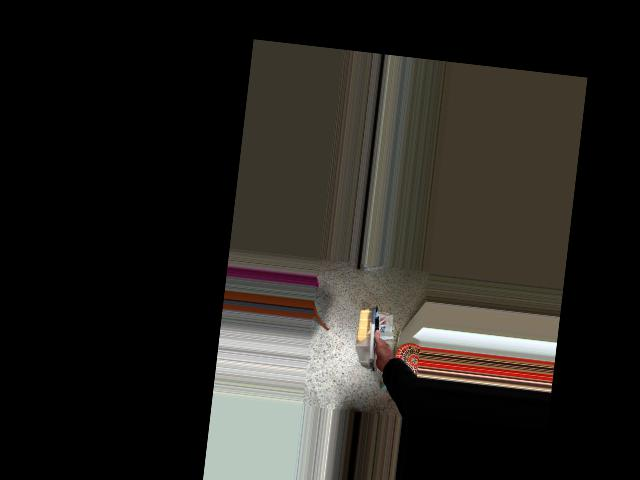cheese: (335, 308, 410, 384)
